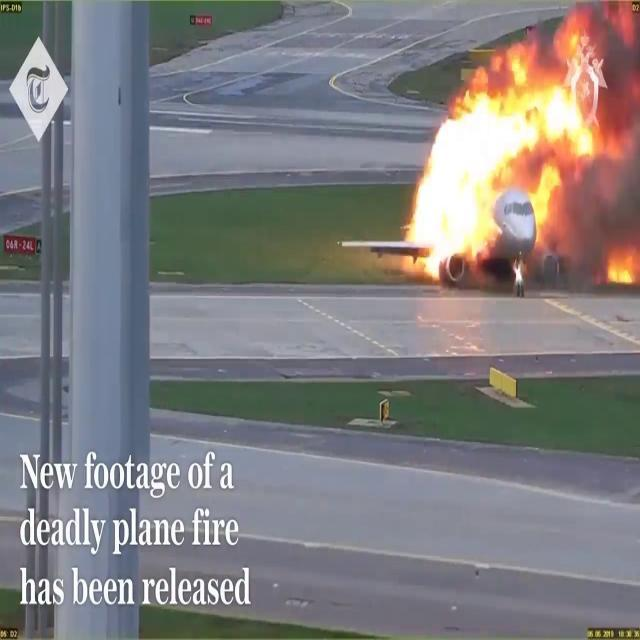Fire: (398, 19, 639, 278)
